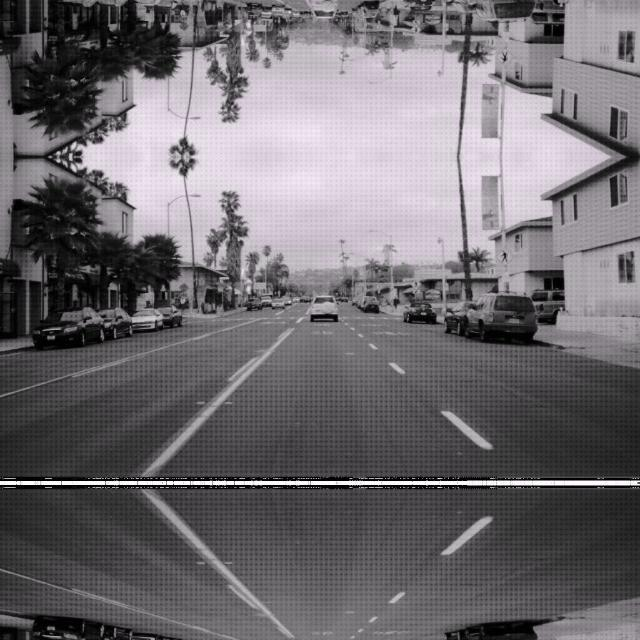pedestrianCrossing: (494, 246, 514, 264), (494, 48, 514, 66), (410, 23, 420, 34), (410, 278, 420, 288)
